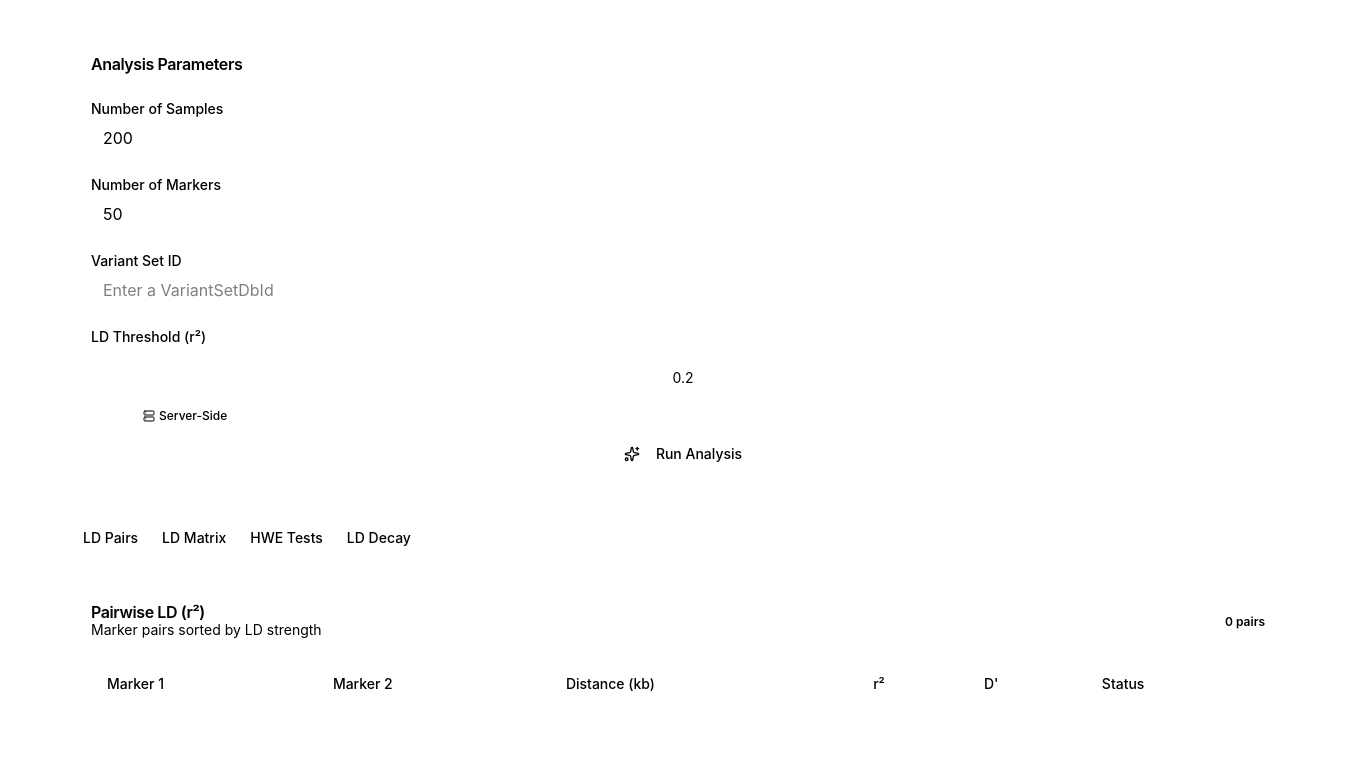
Test case: WasmLDAnalysis server mode › requires a real variant set id before running server analysis
(page scrolled)
What coordinates should you click on to do the following:
click the button "Run Analysis"
I would click on:
 (683, 454)
Its box is [91,436,1275,472].
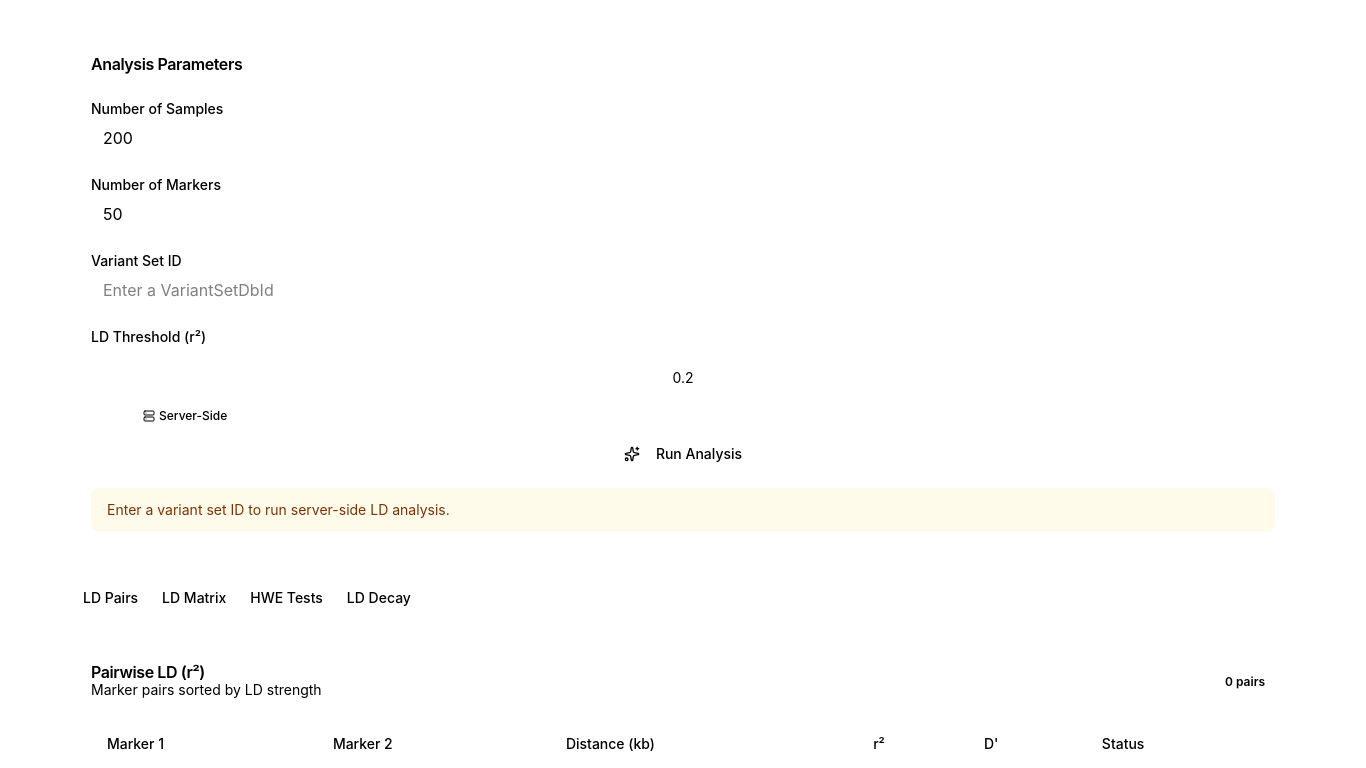
Check: the text "Enter a variant set ID to run server-side LD analysis." is shown, box [91,488,1275,532]
